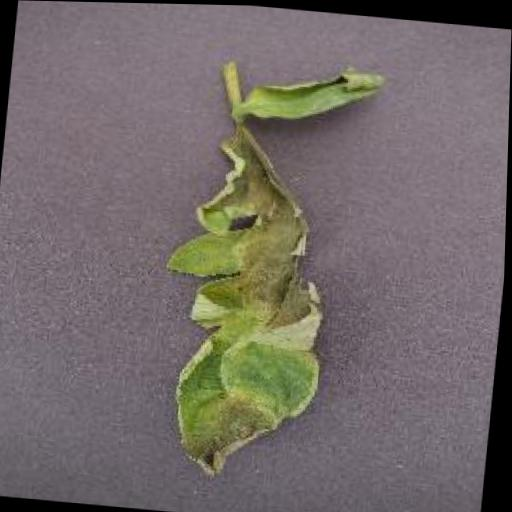Late Blight: (140, 116, 344, 481), (242, 54, 386, 128)
